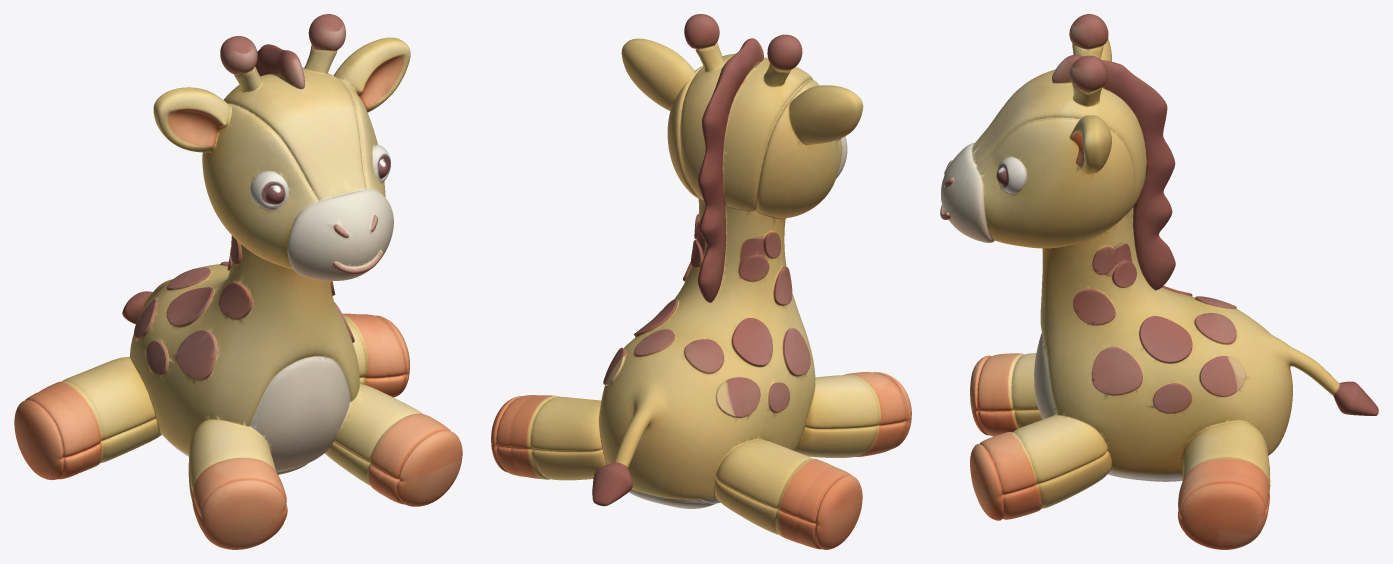
The model's file is Giraffa.glb.
3 views of the same model, side by side, from view 1: azimuth 30°, elevation 25°; view 2: azimuth 150°, elevation 25°; view 3: azimuth 270°, elevation 25° (orthographic). The views are drawn at different scales.
Bounding box in the file's own units: 1.59 × 1.9 × 1.73.
1 material, 1 textured.
